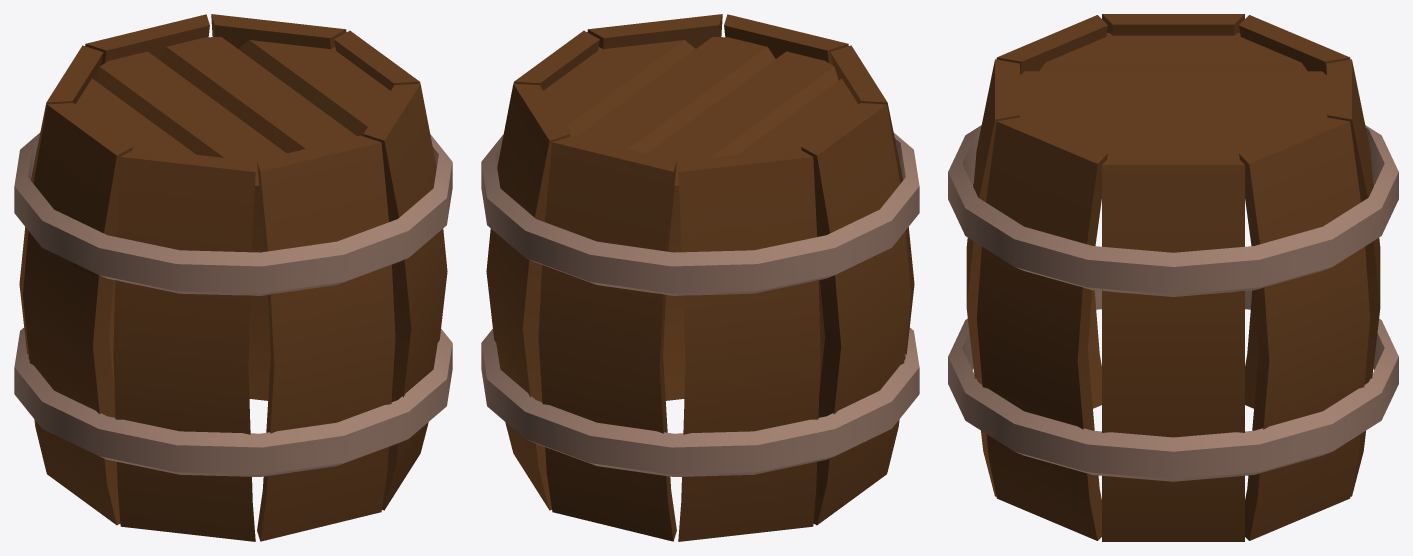
The model's file is Prop_Barrel.gltf.
The picture shows the model from 3 angles, left to right: view 1: azimuth 30°, elevation 25°; view 2: azimuth 150°, elevation 25°; view 3: azimuth 270°, elevation 25°; orthographic projection.
Parts seen in each view (by area): view 1: Prop_Barrel; view 2: Prop_Barrel; view 3: Prop_Barrel.
Part boxes in pixels (x1,y1,x2,y2): Prop_Barrel: (14,14,452,541); Prop_Barrel: (481,14,919,541); Prop_Barrel: (948,14,1398,541).
Bounding box in the file's own units: 0.7147 × 0.6599 × 0.7147.
Materials: 1 (1 with a texture image).
